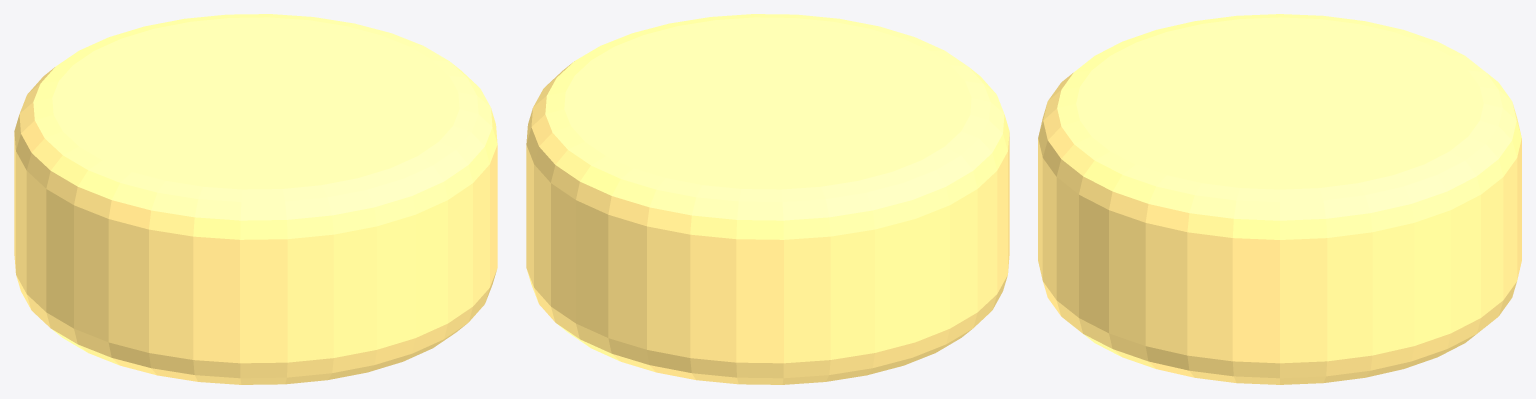
File: SM_UI_ToggleKnob.fbx
The picture shows the model from 3 angles, left to right: view 1: azimuth 30°, elevation 25°; view 2: azimuth 150°, elevation 25°; view 3: azimuth 270°, elevation 25°; orthographic projection.
Visible parts, largest first — view 1: SM_UI_ToggleKnob; view 2: SM_UI_ToggleKnob; view 3: SM_UI_ToggleKnob.
Part boxes in pixels (x1,y1,x2,y2): SM_UI_ToggleKnob: [14, 14, 497, 384]; SM_UI_ToggleKnob: [526, 14, 1009, 384]; SM_UI_ToggleKnob: [1038, 14, 1521, 384].
Bounding box in the file's own units: 0.64 × 0.28 × 0.64.
